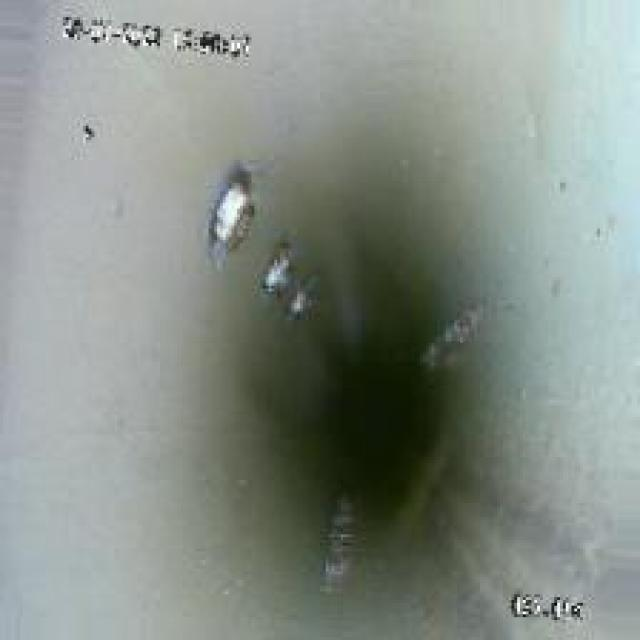ferrule: (203, 174, 251, 249), (266, 251, 291, 283), (286, 286, 317, 311)
